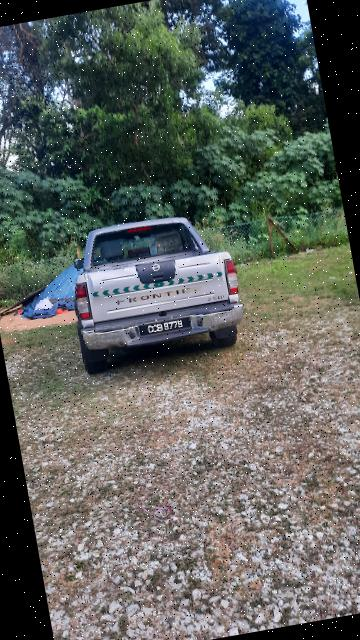License_Plate: (139, 314, 196, 341)
car: (61, 203, 252, 378)
